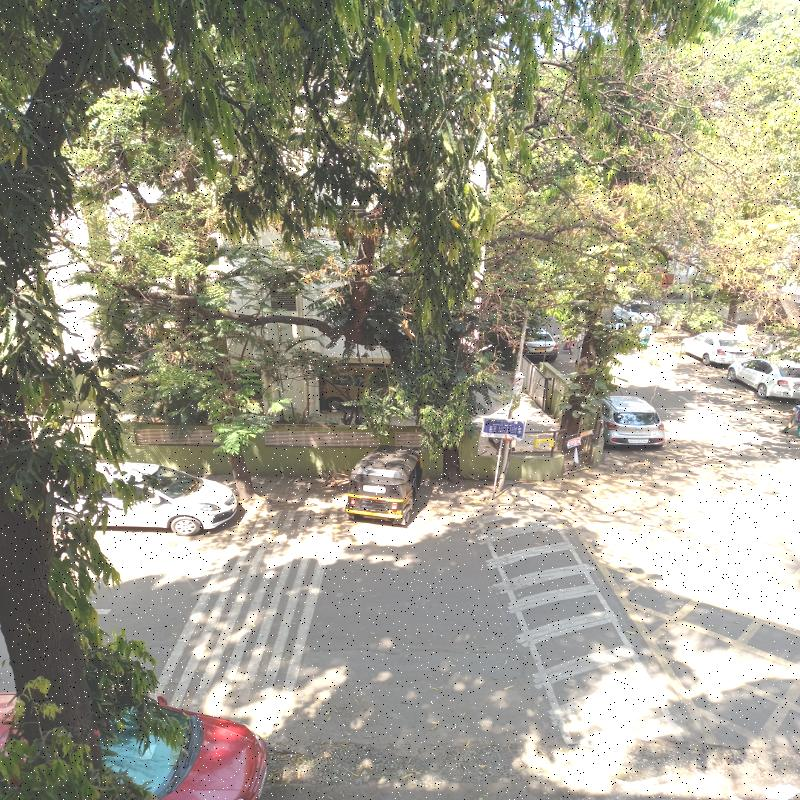auto: (353, 459, 446, 543)
